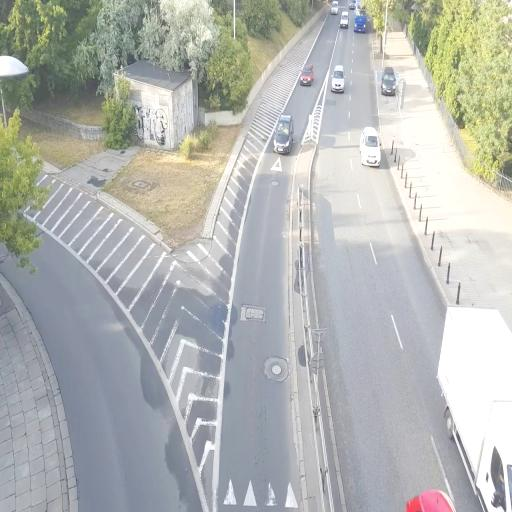vehicle: (360, 126, 380, 166), (273, 113, 293, 153), (380, 67, 398, 96), (330, 66, 345, 93), (300, 65, 314, 86), (353, 14, 367, 33), (340, 13, 348, 28)
